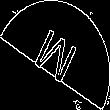M_SW: (29, 21, 81, 89)
